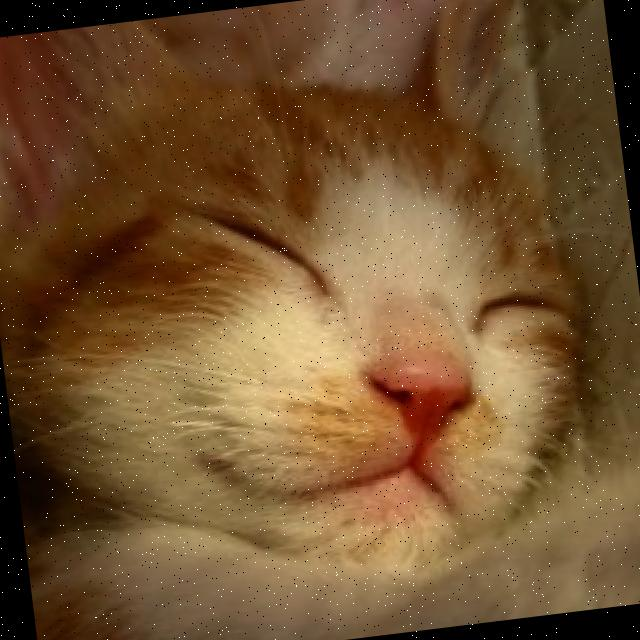Happy: (95, 91, 594, 580)
